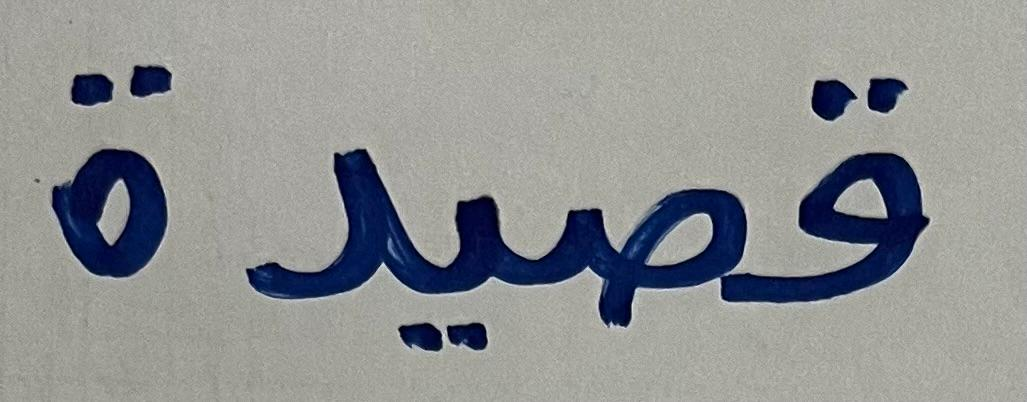dal: (207, 86, 388, 346)
qaf: (771, 59, 981, 351)
sad: (527, 77, 763, 375)
teh_marbota: (13, 24, 196, 311)
yeh: (394, 129, 521, 376)
